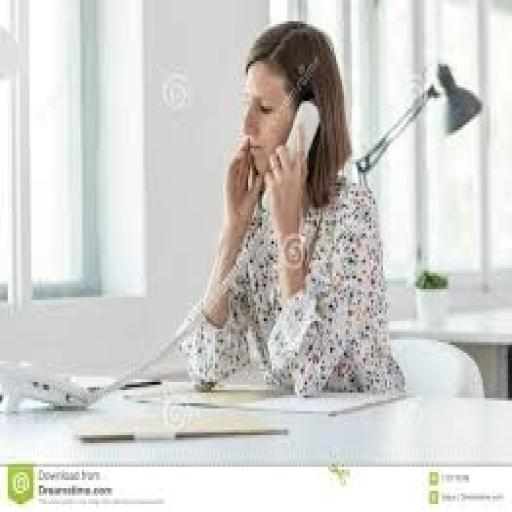calling: (180, 18, 406, 400)
